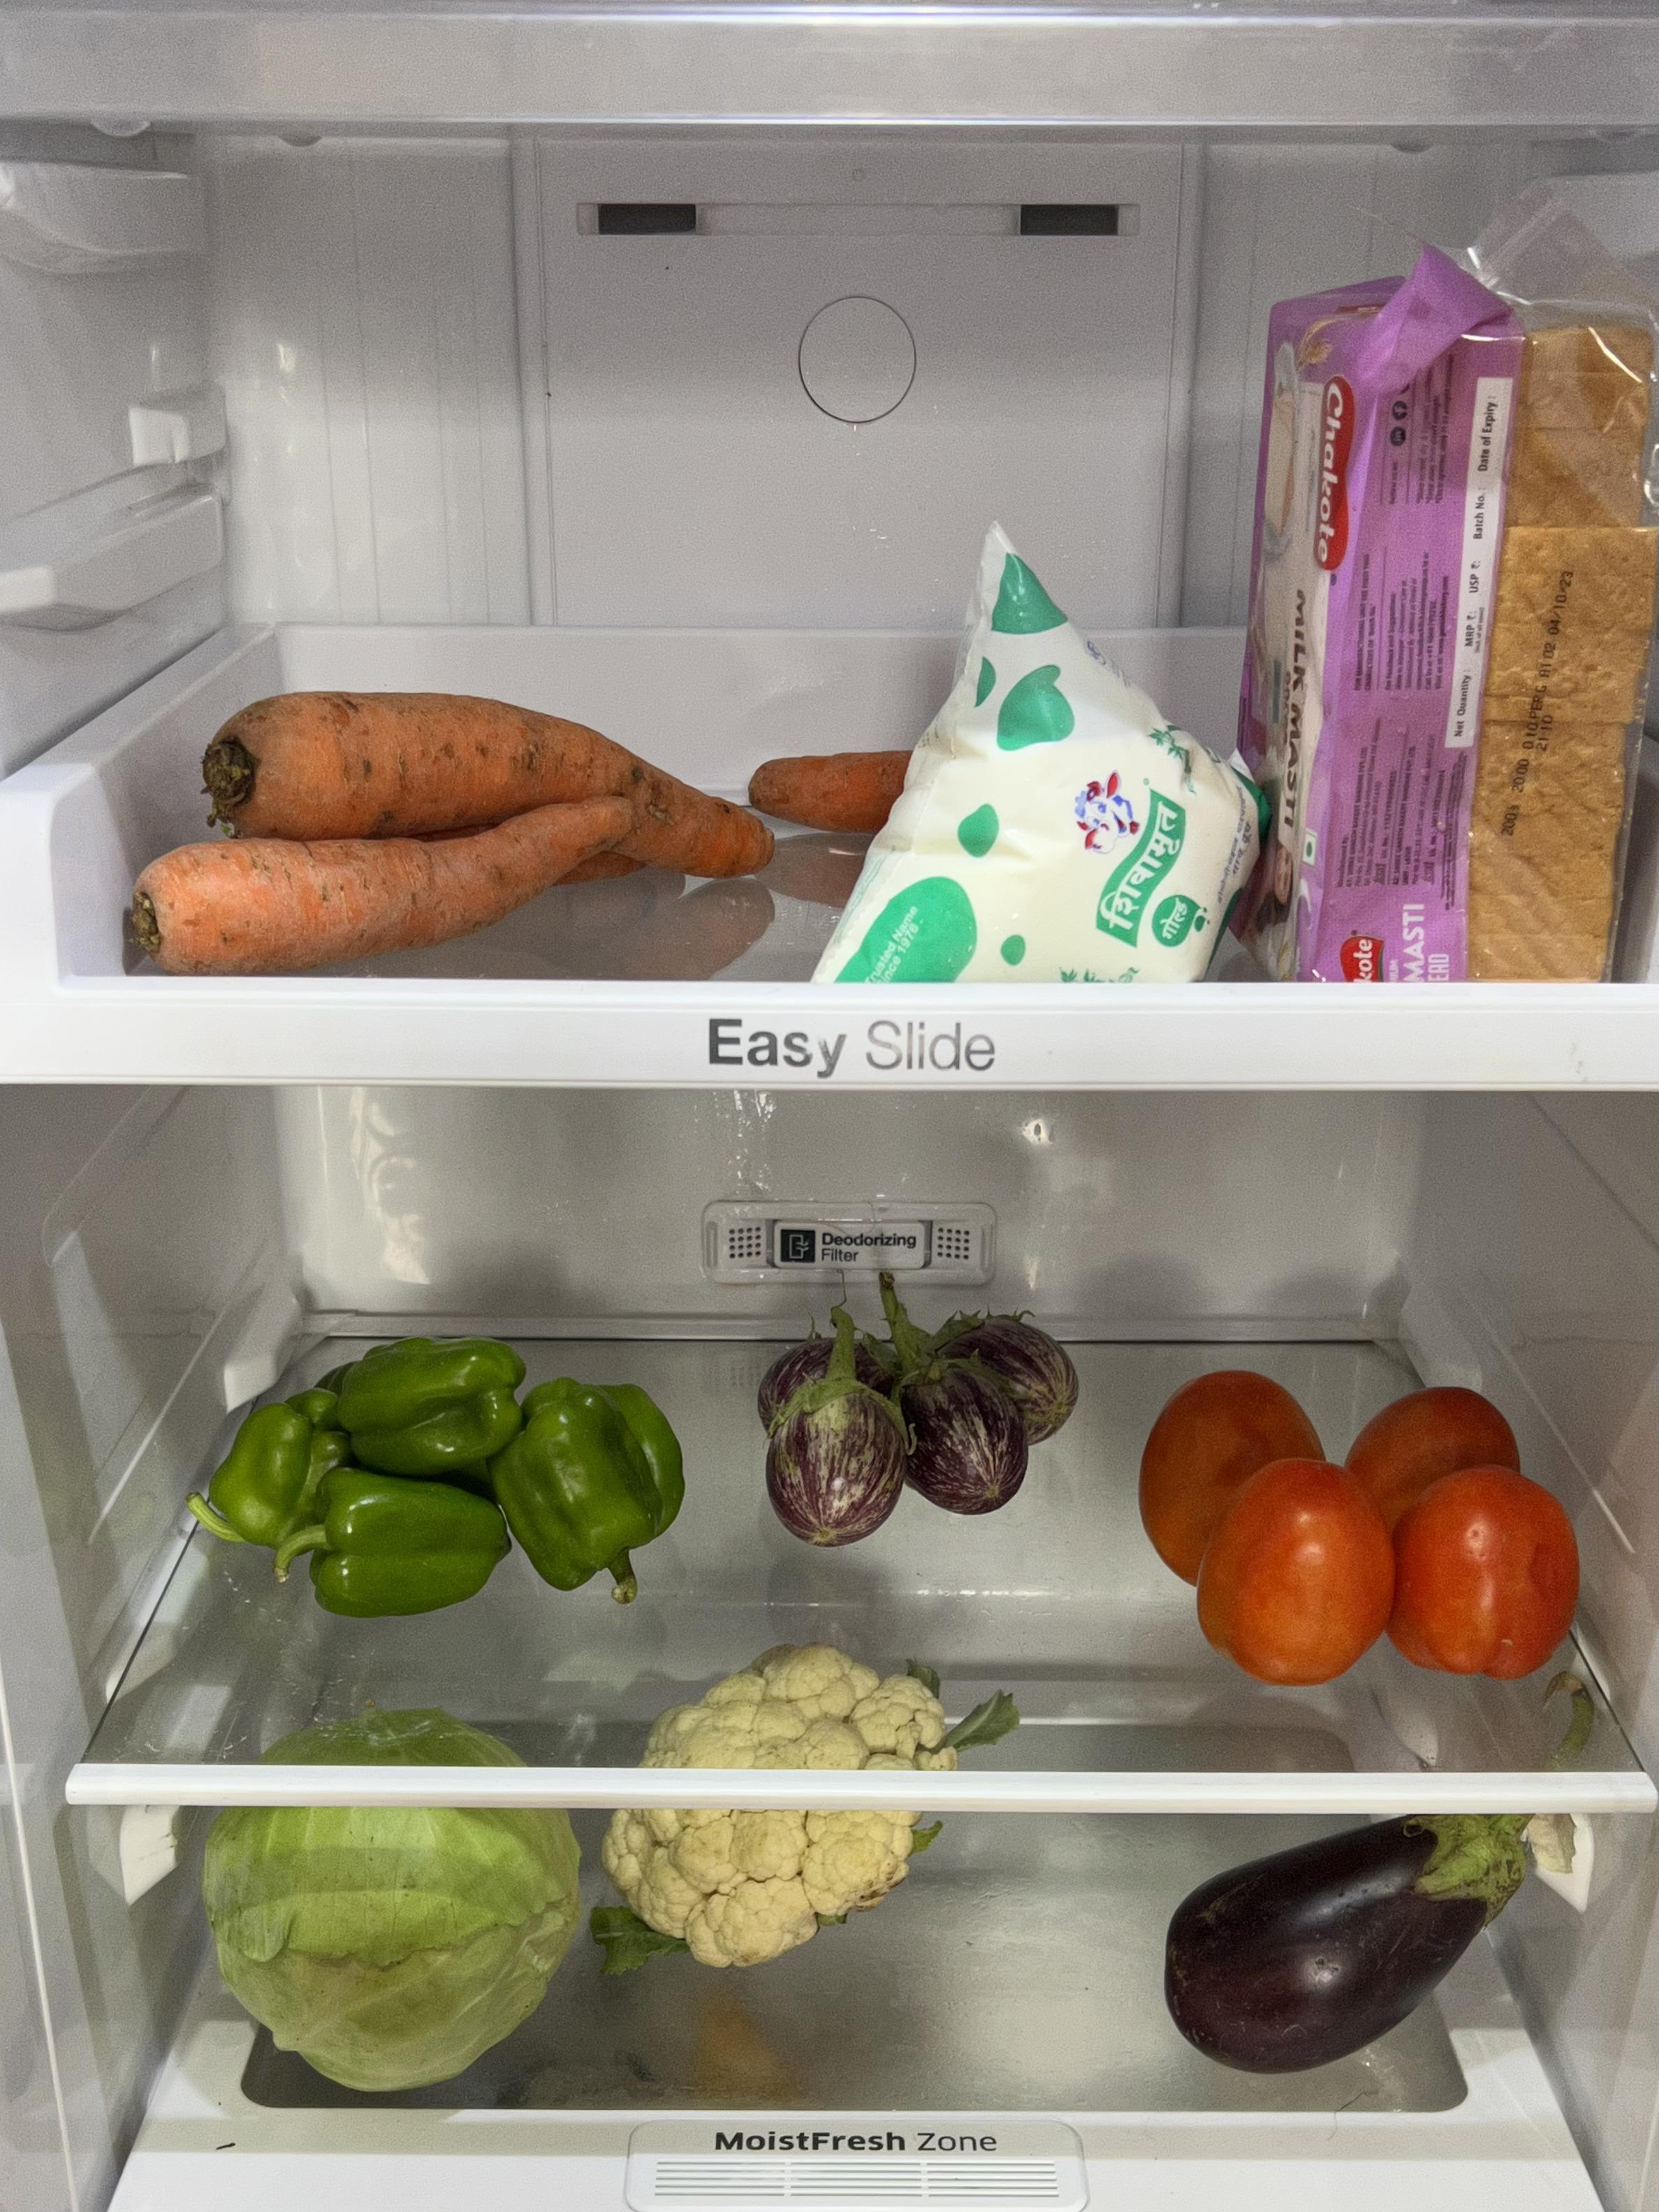bread: (1265, 288, 1650, 978)
bringal: (1161, 1804, 1549, 2085), (756, 1279, 1080, 1536)
cabbage: (176, 1727, 606, 2095)
capsicum: (197, 1300, 690, 1626)
carrots: (141, 673, 769, 983)
cauliflower: (652, 1672, 974, 1945)
milk: (817, 525, 1283, 1011)
tomato: (1126, 1356, 1612, 1693)
